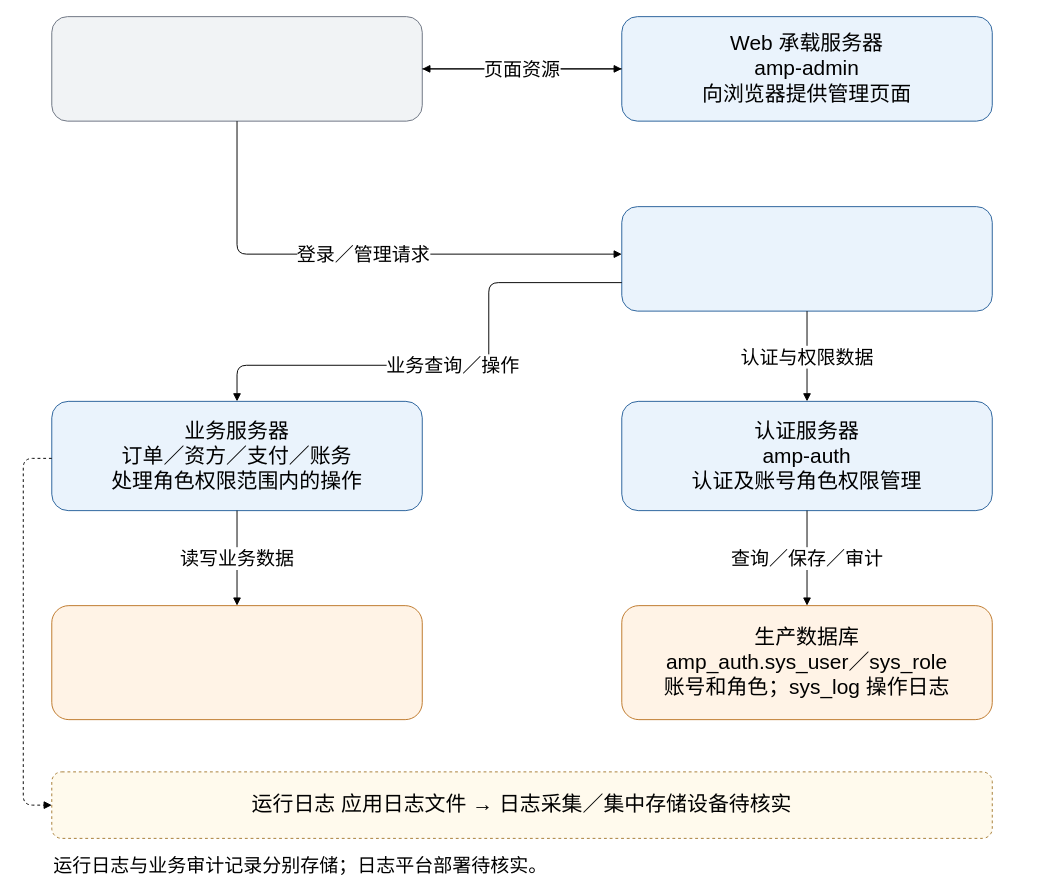
This 1047x894 diagram has some shape labels left out. The centre of each missing label's shape, as x and y in pixels:
"生产数据库 业务库及 application_log 业务记录／处理结果／操作轨迹" goes at pixel 236 662.
"运营网关服务器 amp-op-gateway 转发管理接口请求" goes at pixel 806 258.
"运营／财务／系统管理员工作站 登录并按角色查询或管理" goes at pixel 236 68.
